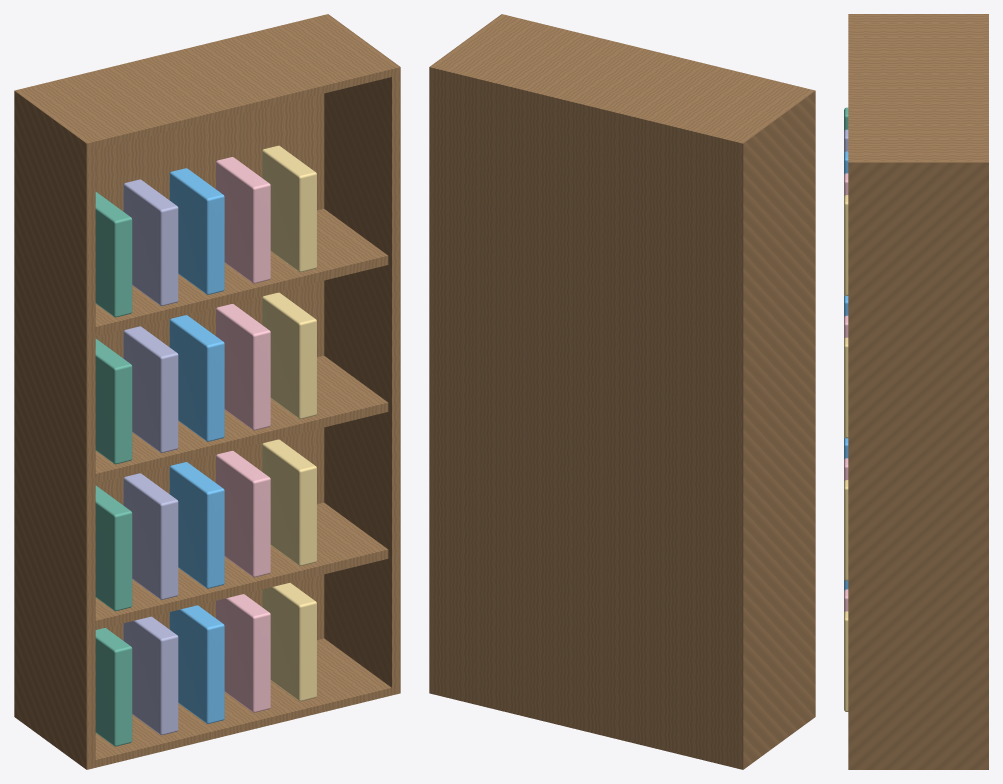
Rendered from bookcase.glb.
The picture shows the model from 3 angles, left to right: view 1: azimuth 30°, elevation 25°; view 2: azimuth 150°, elevation 25°; view 3: azimuth 270°, elevation 25°; orthographic projection. The views are drawn at different scales.
Visible parts, largest first — view 1: Bookcase_Side-0.413, Bookcase_Side0.413, Bookcase_Top, Bookcase_Back, Bookcase_Bottom, Library_Shelf0, Library_Shelf1, Library_Shelf2, Book_Spine_1_1, Book_Spine_3_1, Book_Spine_1_2, Book_Spine_2_2 (+16 smaller); view 2: Bookcase_Back, Bookcase_Side-0.413, Bookcase_Top, Bookcase_Side0.413, Bookcase_Bottom; view 3: Bookcase_Side0.413, Bookcase_Top, Bookcase_Bottom, Book_Spine_2_4, Book_Spine_0_4, Book_Spine_1_4, Book_Spine_3_4.
Boxes of the visible parts, left/top/right/bottom form: Bookcase_Side-0.413: left=14, top=98, right=95, bottom=761; Bookcase_Side0.413: left=324, top=75, right=400, bottom=687; Bookcase_Top: left=14, top=14, right=400, bottom=151; Bookcase_Back: left=95, top=93, right=324, bottom=640; Bookcase_Bottom: left=14, top=638, right=400, bottom=769; Library_Shelf0: left=95, top=502, right=388, bottom=629; Library_Shelf1: left=95, top=355, right=388, bottom=482; Library_Shelf2: left=95, top=208, right=388, bottom=335; Book_Spine_1_1: left=123, top=473, right=178, bottom=599; Book_Spine_3_1: left=123, top=179, right=178, bottom=306; Book_Spine_1_2: left=169, top=462, right=224, bottom=588; Book_Spine_2_2: left=169, top=315, right=224, bottom=441; Bookcase_Back: left=438, top=77, right=734, bottom=759; Bookcase_Side-0.413: left=734, top=98, right=815, bottom=761; Bookcase_Top: left=429, top=14, right=815, bottom=151; Bookcase_Side0.413: left=429, top=75, right=437, bottom=687; Bookcase_Bottom: left=429, top=685, right=815, bottom=769; Bookcase_Side0.413: left=848, top=170, right=988, bottom=762; Bookcase_Top: left=848, top=14, right=988, bottom=169; Bookcase_Bottom: left=848, top=762, right=988, bottom=769; Book_Spine_2_4: left=844, top=337, right=848, bottom=438; Book_Spine_0_4: left=844, top=611, right=848, bottom=711; Book_Spine_1_4: left=844, top=480, right=848, bottom=580; Book_Spine_3_4: left=844, top=195, right=848, bottom=295.
Bounding box in the file's own units: 0.85 × 1.62 × 0.35.
6 materials, 1 textured.
